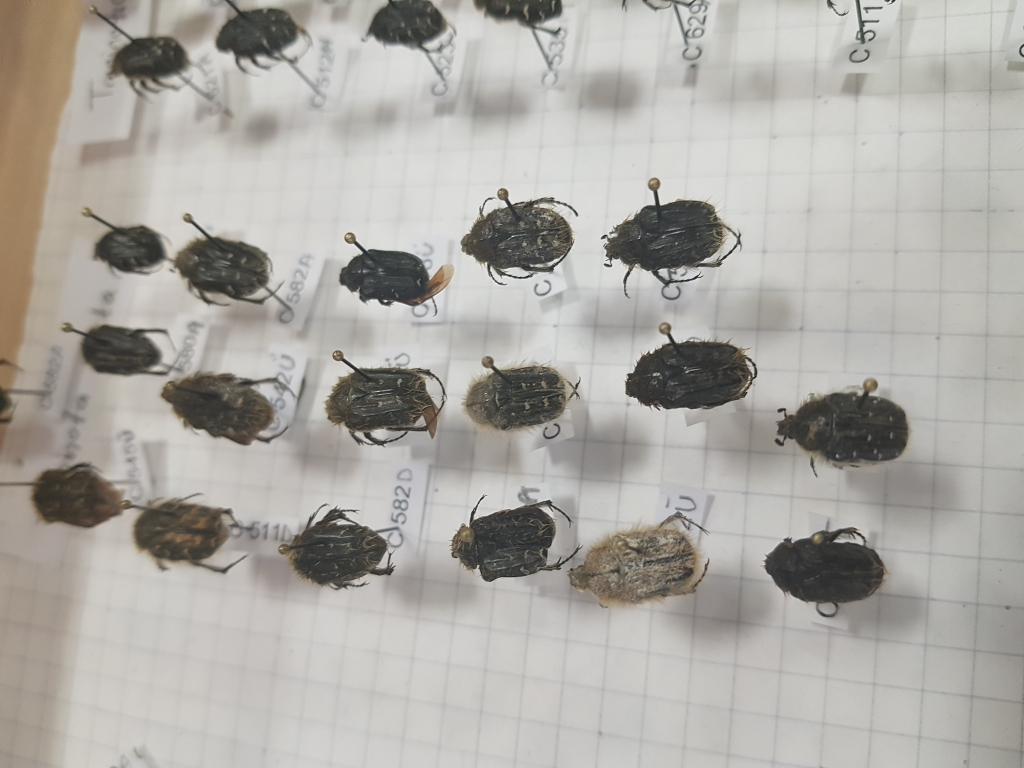Tropinota_hirta: (461, 349, 577, 437)
